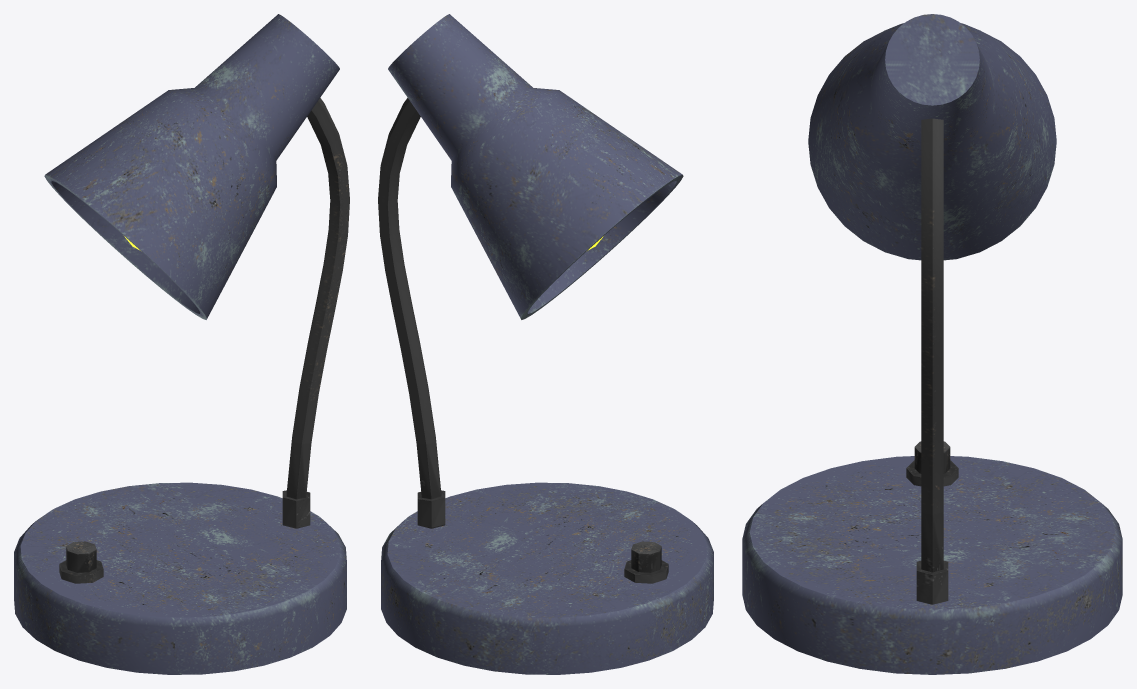
The model's file is table_lamp.glb.
3 renders of one model, left to right at view 1: azimuth 30°, elevation 25°; view 2: azimuth 150°, elevation 25°; view 3: azimuth 270°, elevation 25°, orthographic. The views are drawn at different scales.
Parts seen in each view (by area): view 1: Object_3; view 2: Object_3; view 3: Object_3.
Boxes of the visible parts, x1,y1,x2,y2 form: Object_3: (14, 14, 349, 674); Object_3: (378, 14, 713, 674); Object_3: (742, 14, 1122, 674).
Bounding box in the file's own units: 3.48 × 5.93 × 3.2.
1 material, 1 textured.
